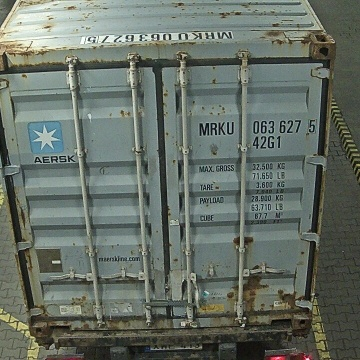serial_id: (199, 119, 317, 135)
